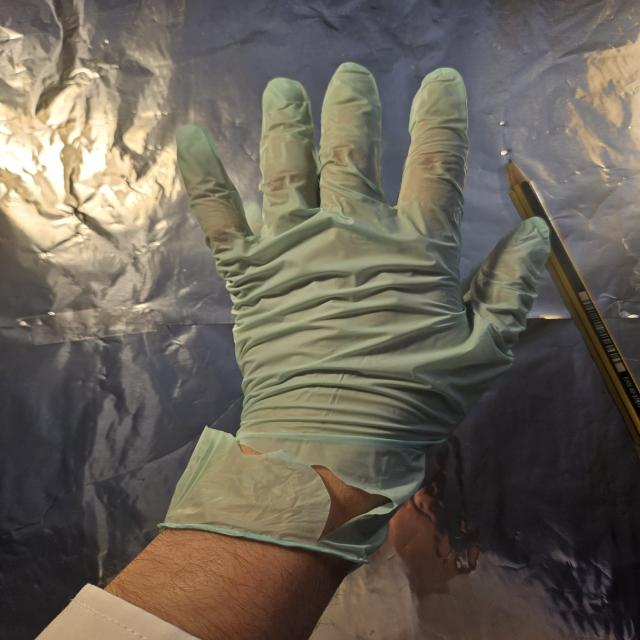gloves_damaged: (155, 62, 555, 574)
